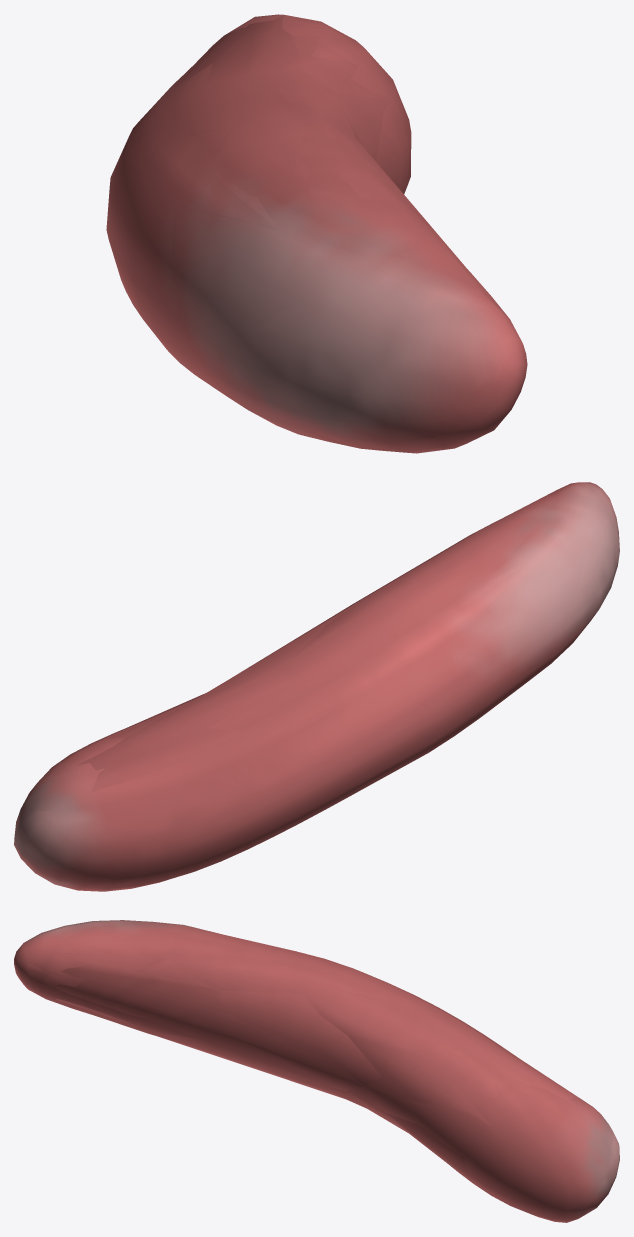
File: Латеральная копчиковая мышца R.fbx
The picture shows the model from 3 angles, top to bottom: view 1: azimuth 30°, elevation 25°; view 2: azimuth 150°, elevation 25°; view 3: azimuth 270°, elevation 25°; orthographic projection. The views are drawn at different scales.
Parts seen in each view (by area): view 1: Латеральная копчиковая мышца R high, Латеральная копчиковая мышца R, Латеральная копчиковая мышца R low; view 2: Латеральная копчиковая мышца R high, Латеральная копчиковая мышца R low, Латеральная копчиковая мышца R; view 3: Латеральная копчиковая мышца R low, Латеральная копчиковая мышца R high, Латеральная копчиковая мышца R.
Part boxes in pixels (x1,y1,x2,y2): Латеральная копчиковая мышца R high: (106,14,527,453); Латеральная копчиковая мышца R: (122,14,521,452); Латеральная копчиковая мышца R low: (175,15,420,229); Латеральная копчиковая мышца R high: (14,482,619,891); Латеральная копчиковая мышца R low: (76,529,535,849); Латеральная копчиковая мышца R: (14,482,619,890); Латеральная копчиковая мышца R low: (46,932,590,1214); Латеральная копчиковая мышца R high: (14,920,619,1222); Латеральная копчиковая мышца R: (18,923,617,1220).
Bounding box in the file's own units: 0.097 × 0.07 × 0.1871.
Materials: 1 (1 with a texture image).
